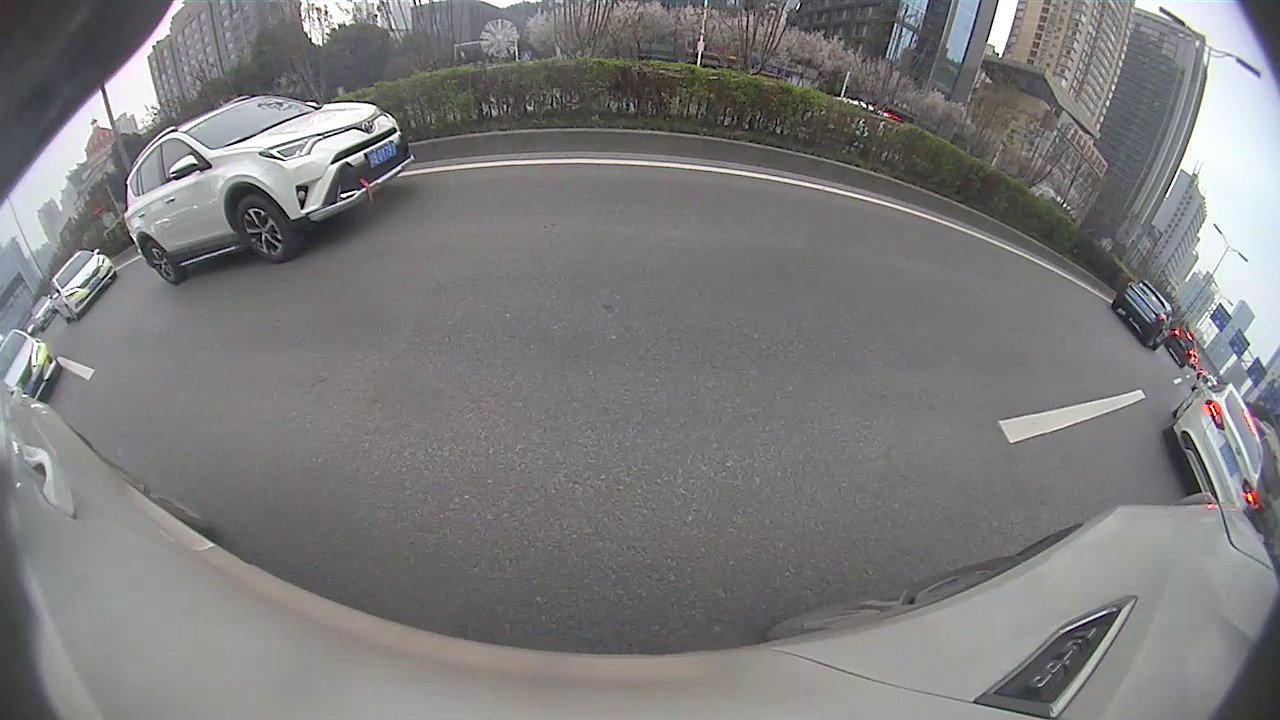car: (1037, 218, 1279, 433), (474, 162, 547, 203), (583, 156, 633, 194)
front: (1045, 273, 1129, 368)
person: (912, 176, 927, 211), (1032, 216, 1044, 247), (900, 179, 912, 209)
rear: (520, 183, 533, 202)
